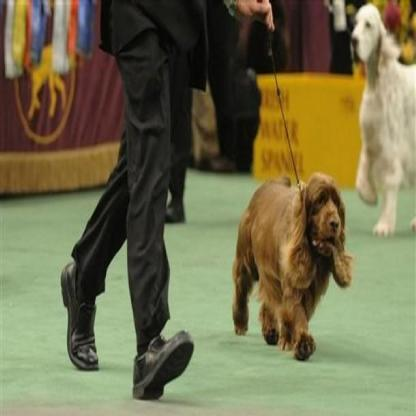Sussex_spaniel: (230, 168, 352, 359), (350, 0, 414, 236)
